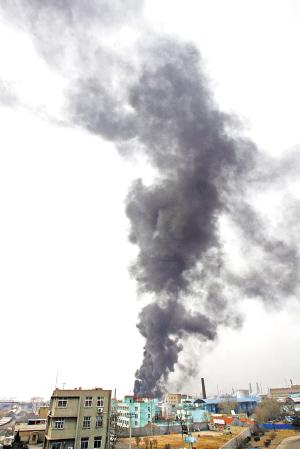smoke: (122, 14, 270, 395)
